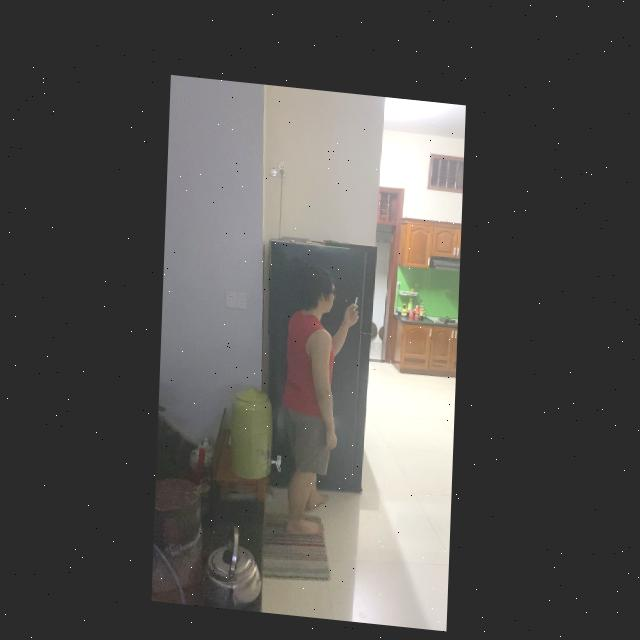cigarette: (356, 289, 359, 298)
